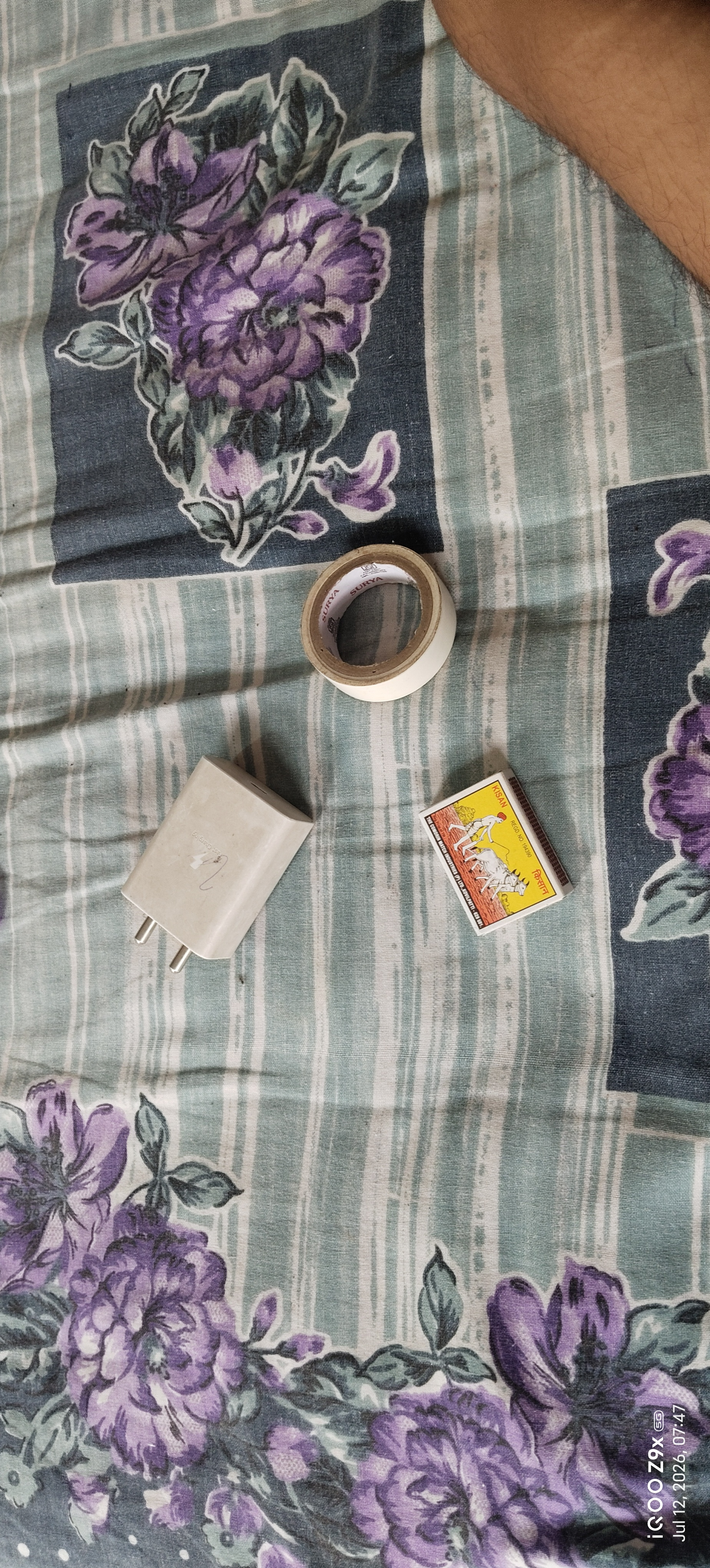charger: (100, 739, 326, 981)
matchbox: (397, 764, 598, 946)
tape_roll: (289, 534, 483, 713)
